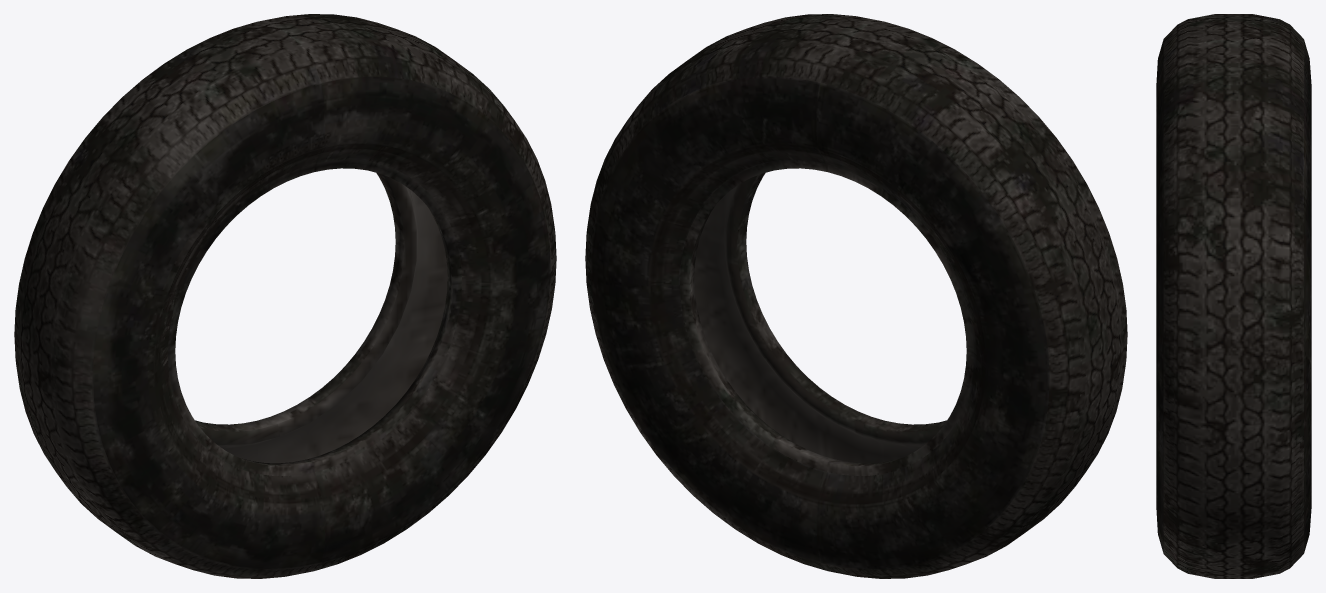
File: tyre.glb
3 views of the same model, side by side, from view 1: azimuth 30°, elevation 25°; view 2: azimuth 150°, elevation 25°; view 3: azimuth 270°, elevation 25° (orthographic). The views are drawn at different scales.
Visible parts, largest first — view 1: old_tyre; view 2: old_tyre; view 3: old_tyre.
Boxes of the visible parts, box(x1,y1,x2,y2) form: old_tyre: box(14, 14, 556, 578); old_tyre: box(585, 14, 1127, 578); old_tyre: box(1156, 14, 1311, 578).
Bounding box in the file's own units: 0.6 × 0.6 × 0.165.
Materials: 1 (1 with a texture image).
